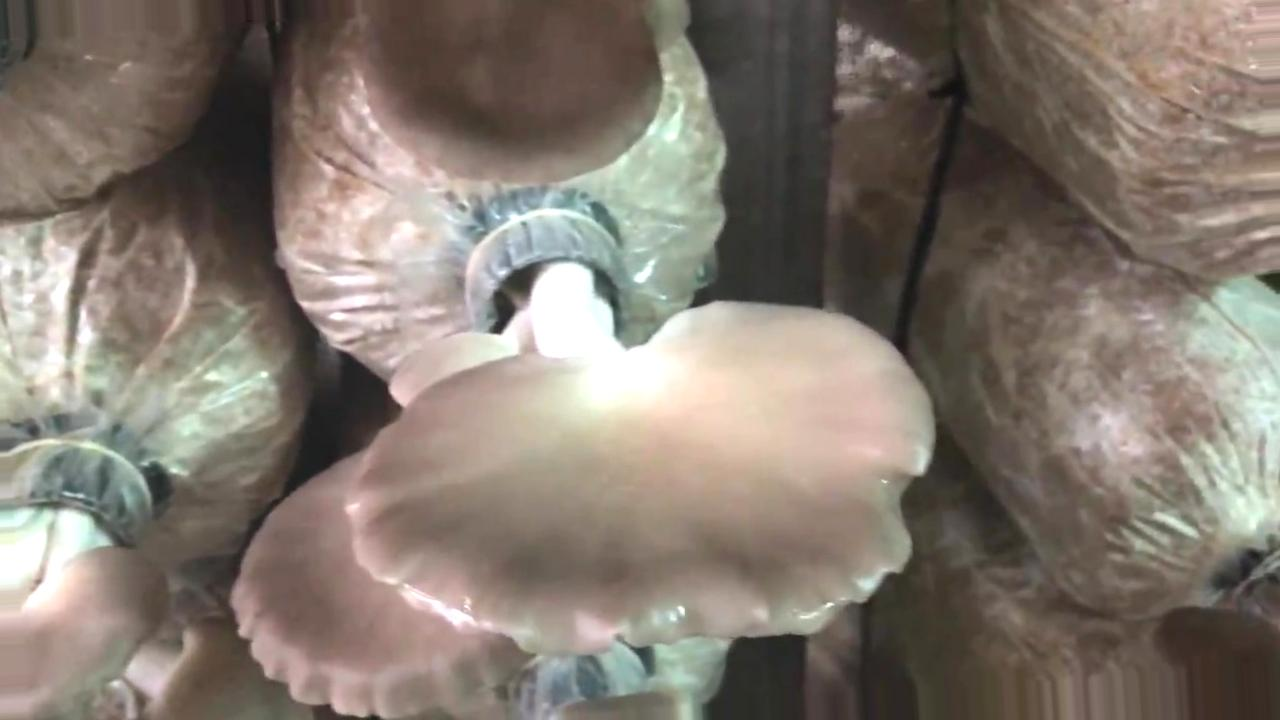nam: (343, 212, 943, 655), (4, 405, 314, 720), (231, 439, 526, 720), (359, 5, 670, 192)
